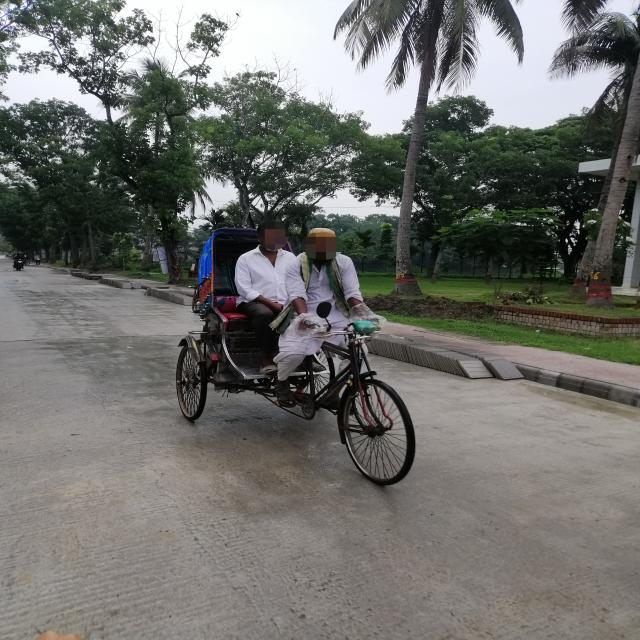Auto-Rickshaw: (144, 199, 431, 522)
